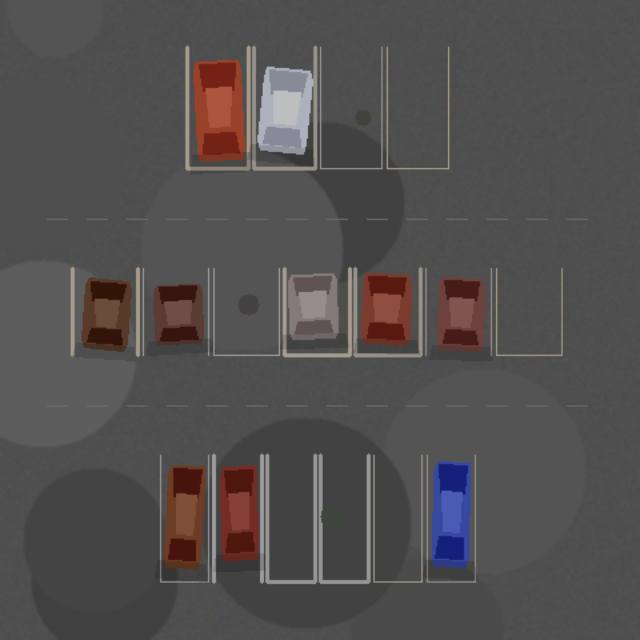space-empty: (320, 47, 381, 168), (387, 47, 448, 168), (267, 455, 315, 581), (320, 455, 368, 581), (373, 455, 421, 581), (213, 268, 279, 355), (496, 268, 561, 355)
space-occupied: (253, 47, 315, 168), (187, 47, 248, 168), (160, 455, 208, 581), (213, 455, 261, 581), (427, 455, 475, 581), (425, 268, 491, 355), (72, 268, 137, 355), (143, 268, 208, 355), (284, 268, 349, 355), (355, 268, 420, 355)
